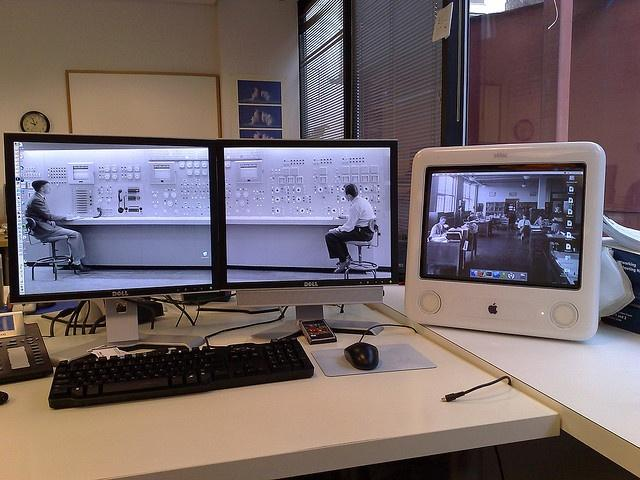AIO PC-Monitor-TV: (3, 131, 219, 305), (214, 135, 398, 305)
